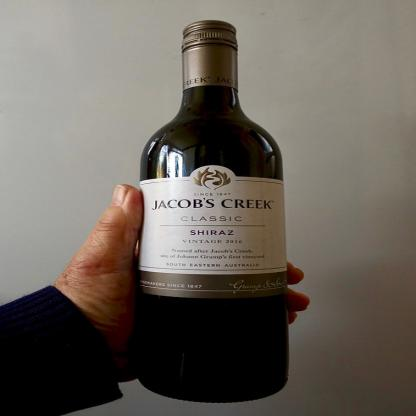drinking: (138, 20, 289, 403)
